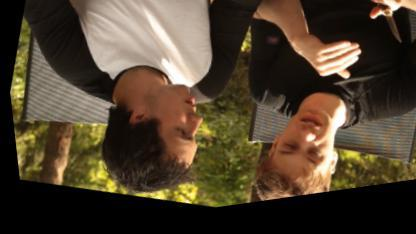knife: (350, 0, 415, 64)
